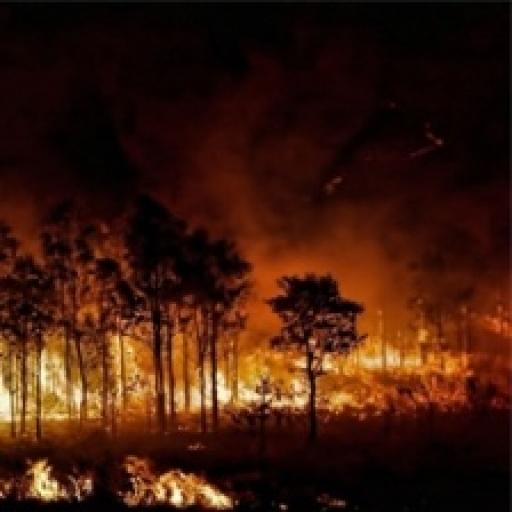fire and smoke: (0, 5, 509, 324)
